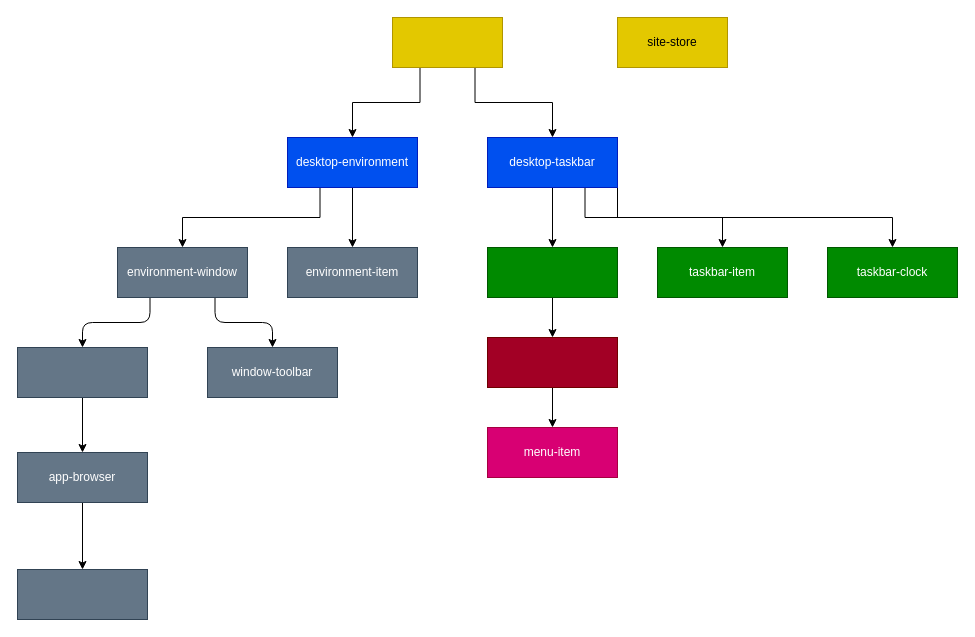
This 975x637 diagram has some shape labels left out. The shapes that lost their labels are listed below. From the top down, each one's box as (x1, y1, x2, y2) in pixels, then its label:
(392, 16, 502, 68): site-desktop
(486, 246, 618, 298): taskbar-start
(16, 346, 148, 398): window-app
(486, 336, 618, 388): start-menu
(16, 568, 148, 620): browser-tab
